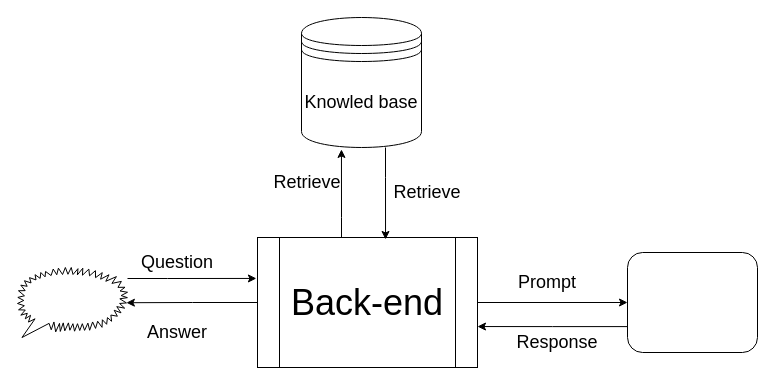
This 775x385 diagram has some shape labels left out. Each missing label, with the centre of its shape:
"Chat_UI" goes at [72,302].
"Llm" goes at [692,302].
